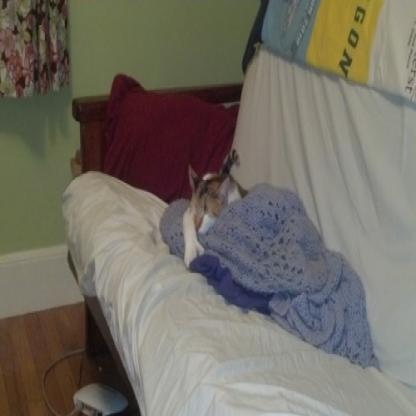Target: (172, 155, 263, 265)
